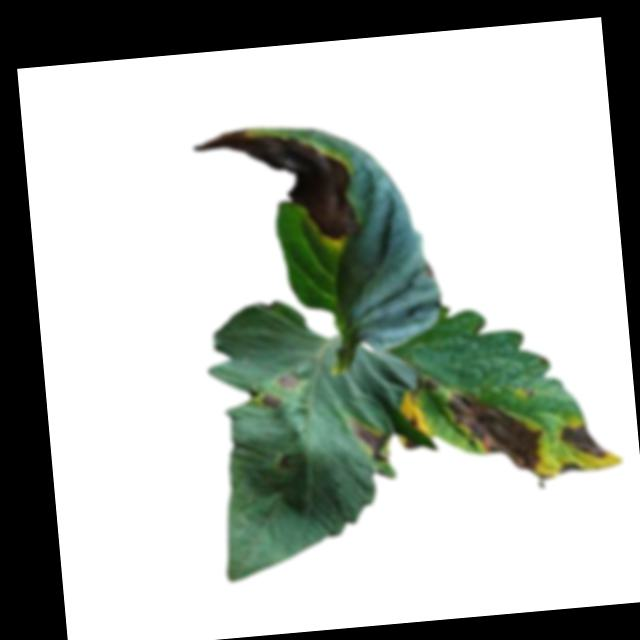Early_blight: (191, 120, 366, 255), (446, 381, 545, 480), (558, 423, 610, 463), (348, 417, 390, 464), (401, 392, 432, 440), (275, 372, 301, 391), (557, 461, 584, 478), (259, 395, 280, 411)
